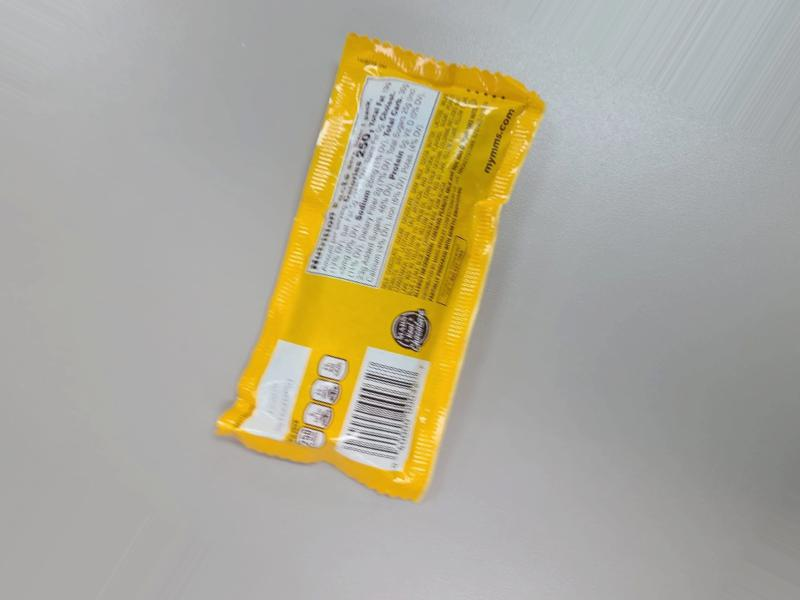m&m: (227, 72, 545, 528)
